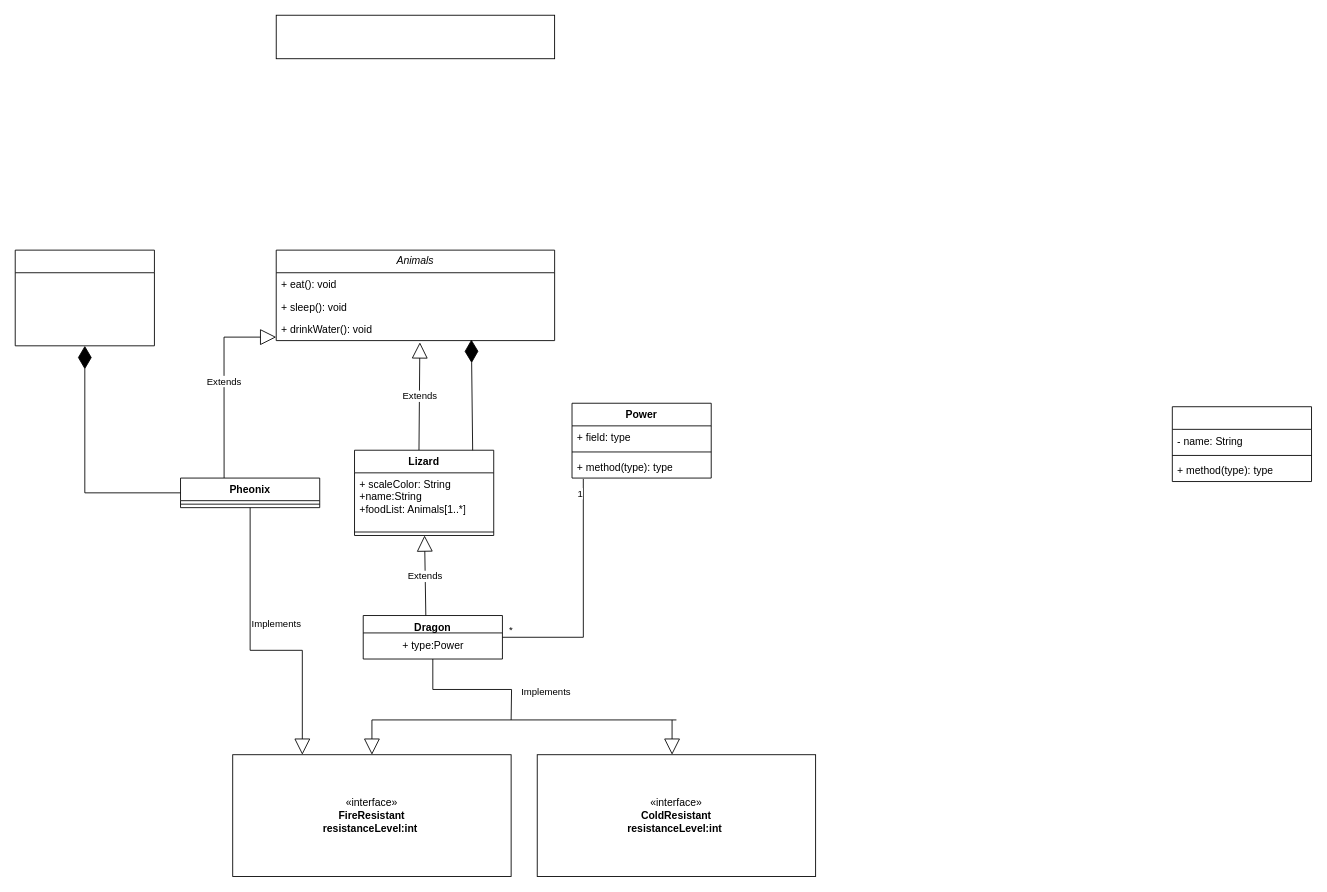
This 1327x892 diagram has some shape labels left out. Each missing label, with the box of its shape:
Any attribute in an interface is going to be static. Use values like Pi, weight,: (275, 14, 555, 59)
Classname: (1171, 406, 1312, 482)
Fruit: (14, 249, 154, 346)
